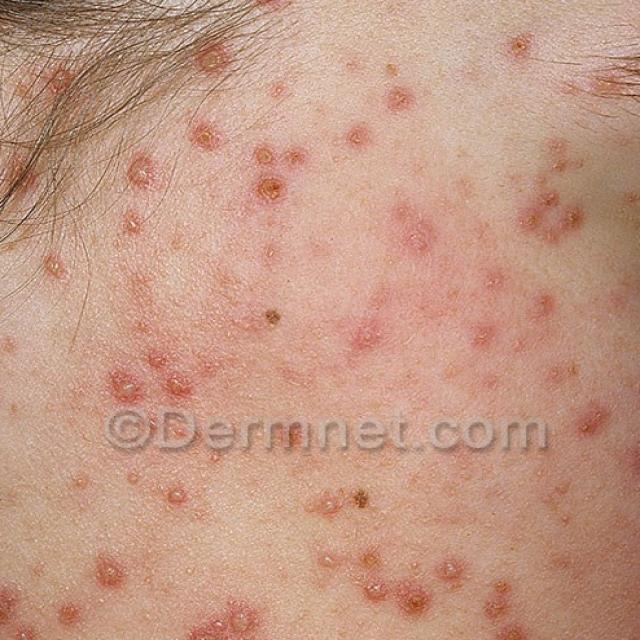Viral Infections: (80, 67, 640, 406), (0, 452, 640, 640)
